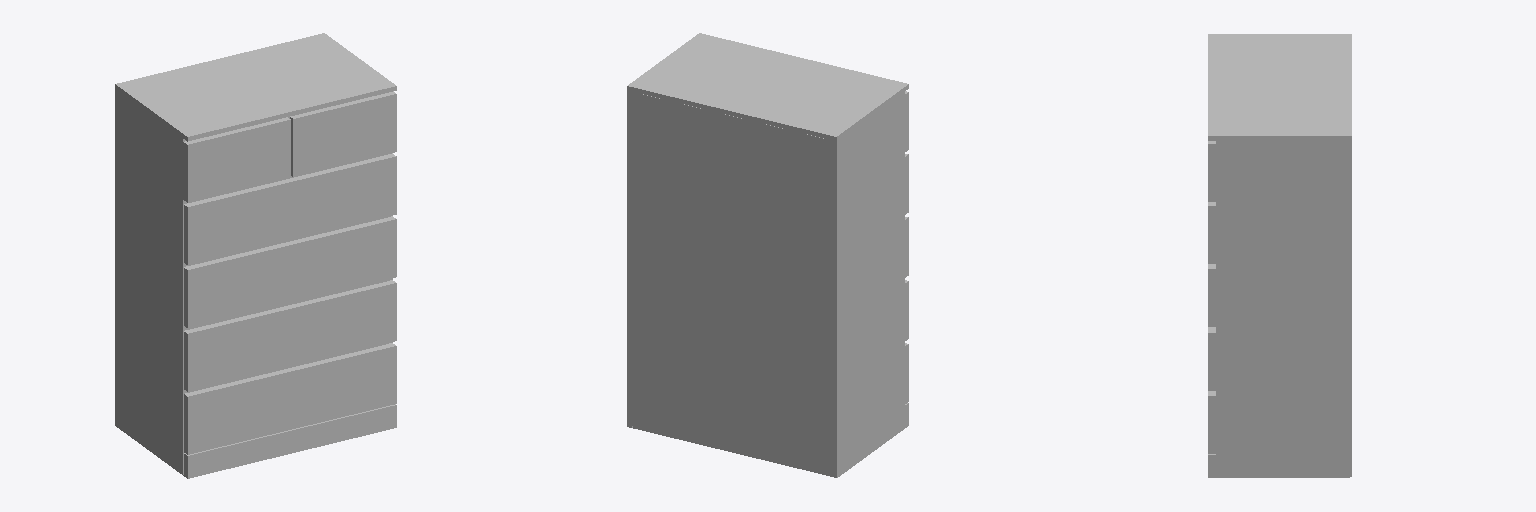
File: MALMx6x2.obj
The picture shows the model from 3 angles: view 1: azimuth 30°, elevation 25°; view 2: azimuth 150°, elevation 25°; view 3: azimuth 270°, elevation 25°; orthographic projection.
Parts seen in each view (by area): view 1: Cube.009_Cube.010, Cube.001_Cube.002, Cube.004_Cube.005, Cube.010_Cube.011, Cube.003_Cube.004; view 2: Cube.003_Cube.004, Cube.001_Cube.002, Cube.009_Cube.010, Cube.010_Cube.011; view 3: Cube.001_Cube.002, Cube.009_Cube.010.
Part boxes in pixels (x1,y1,x2,y2): Cube.009_Cube.010: (184, 153, 396, 454); Cube.001_Cube.002: (115, 33, 396, 474); Cube.004_Cube.005: (183, 91, 396, 202); Cube.010_Cube.011: (116, 404, 396, 478); Cube.003_Cube.004: (188, 117, 387, 392); Cube.003_Cube.004: (632, 92, 831, 474); Cube.001_Cube.002: (627, 33, 908, 477); Cube.009_Cube.010: (905, 154, 908, 403); Cube.010_Cube.011: (633, 403, 908, 476); Cube.001_Cube.002: (1208, 34, 1351, 476); Cube.009_Cube.010: (1208, 202, 1215, 453).
Size of the model in its own units: 1.6 by 2.5 by 0.9593.